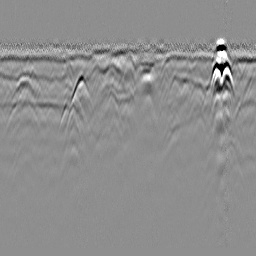cavity: (120, 56, 136, 87)
